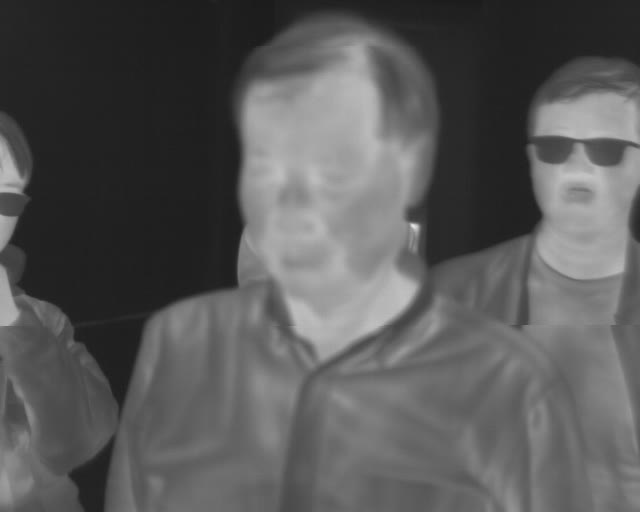face: (230, 12, 439, 311), (521, 52, 640, 239)
